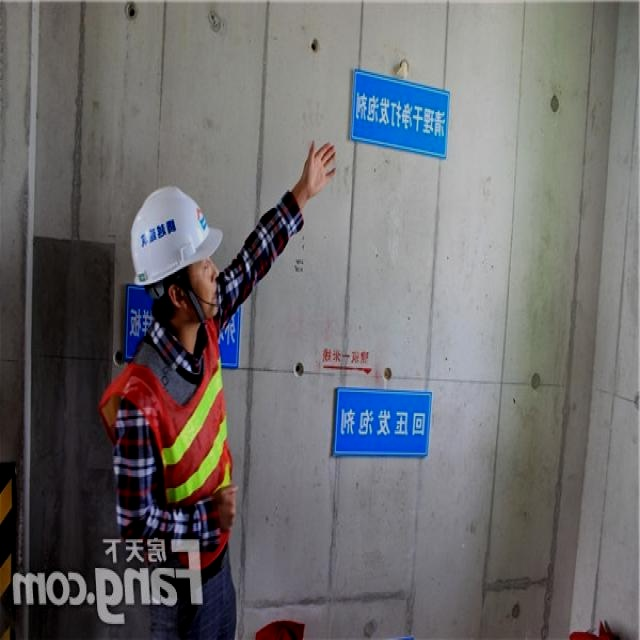Con_Casco: (129, 188, 227, 323)
Con_Chaleco: (107, 323, 233, 536)
